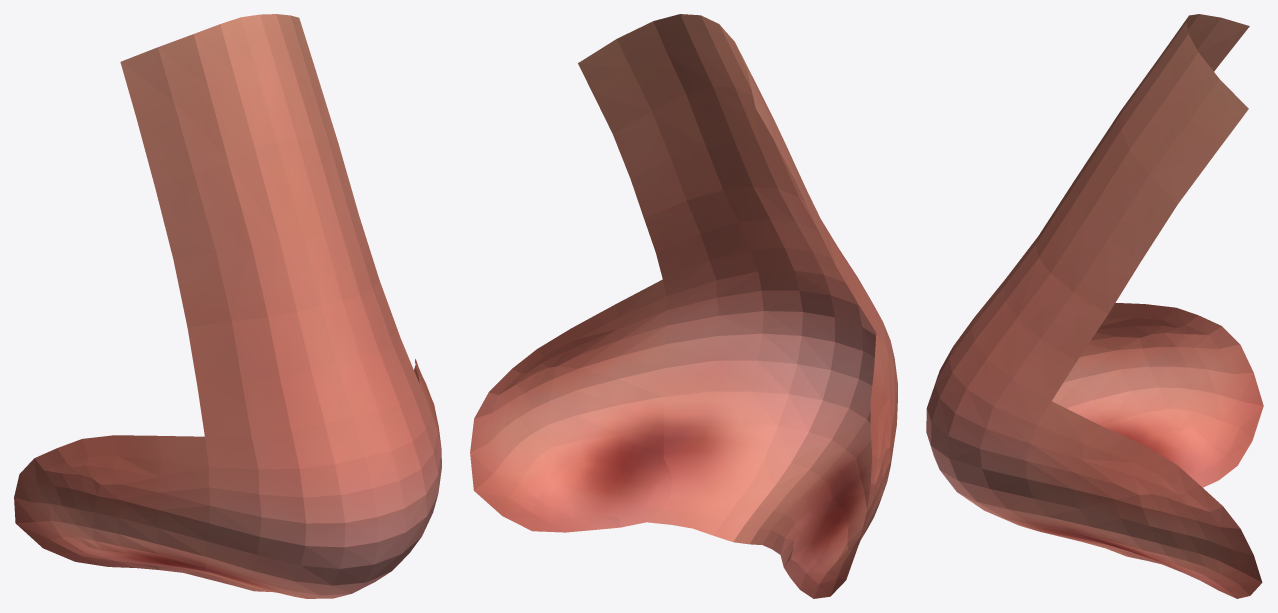
File: euro-fem-nose-down.obj
3 views of the same model, side by side, from view 1: azimuth 30°, elevation 25°; view 2: azimuth 150°, elevation 25°; view 3: azimuth 270°, elevation 25° (orthographic). The views are drawn at different scales.
Parts seen in each view (by area): view 1: euro-fem-nose-down.003; view 2: euro-fem-nose-down.003; view 3: euro-fem-nose-down.003.
Part boxes in pixels (<box>): euro-fem-nose-down.003: <box>14,14,441,598</box>; euro-fem-nose-down.003: <box>470,14,897,598</box>; euro-fem-nose-down.003: <box>926,14,1263,598</box>.
Bounding box in the file's own units: 0.2014 × 0.2704 × 0.1563.
Materials: 1 (1 with a texture image).
